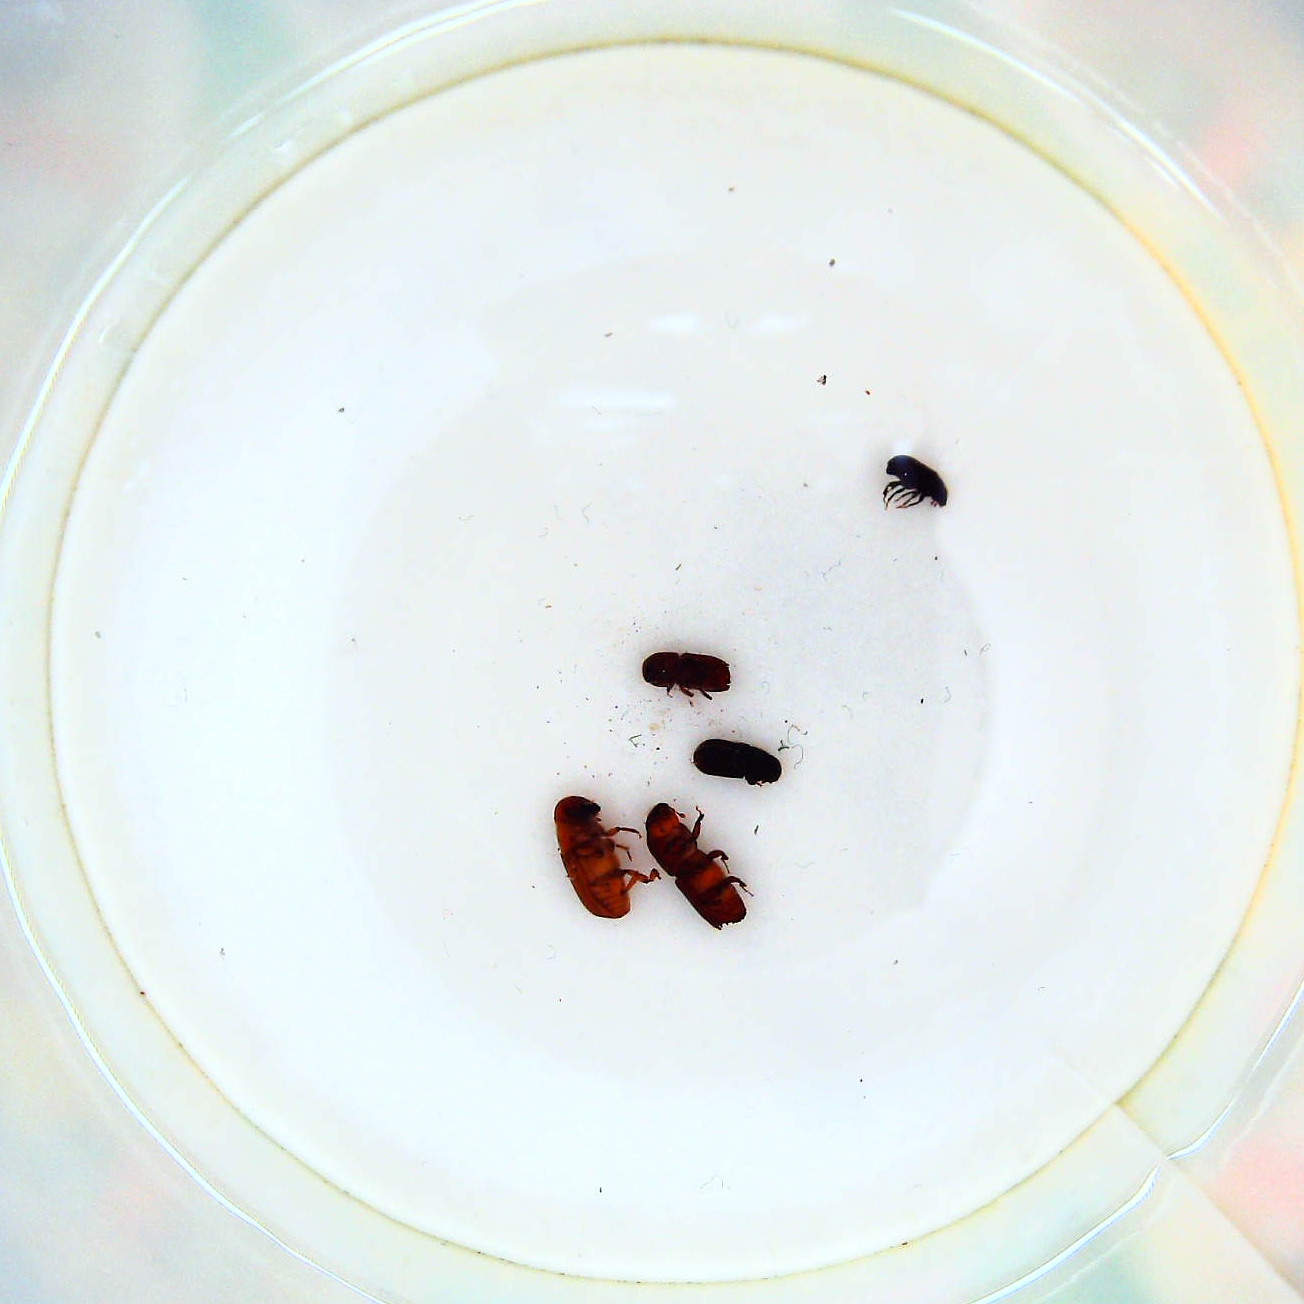Boerner: (638, 796, 754, 940)
Leconte: (548, 789, 665, 923)
armandi: (685, 733, 794, 789)
coleoptera: (875, 450, 951, 518)
linnaeus: (633, 645, 736, 706)
